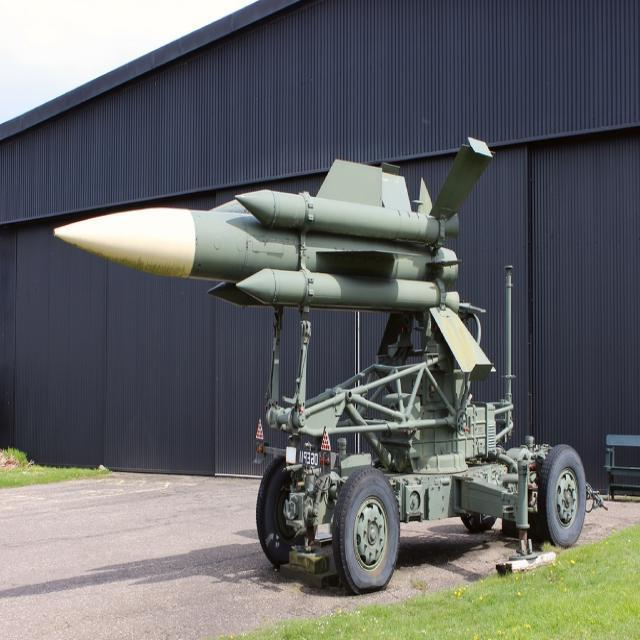missile: (46, 202, 228, 278), (238, 188, 438, 244), (231, 266, 443, 312)
